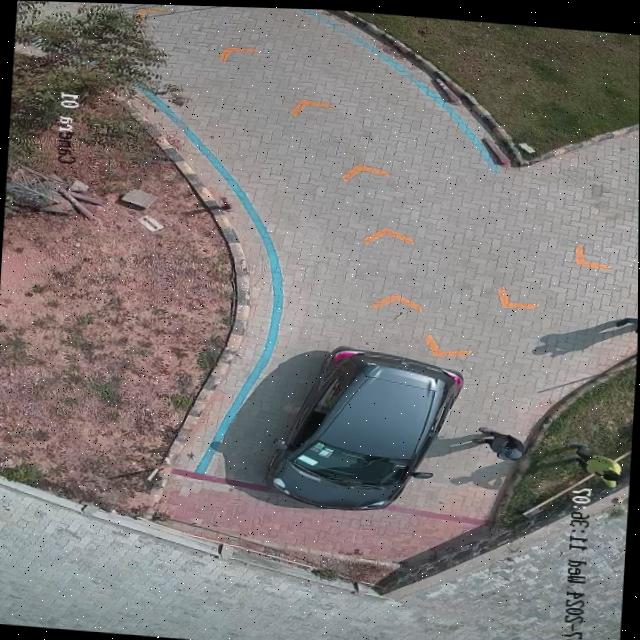car: (267, 344, 462, 509)
